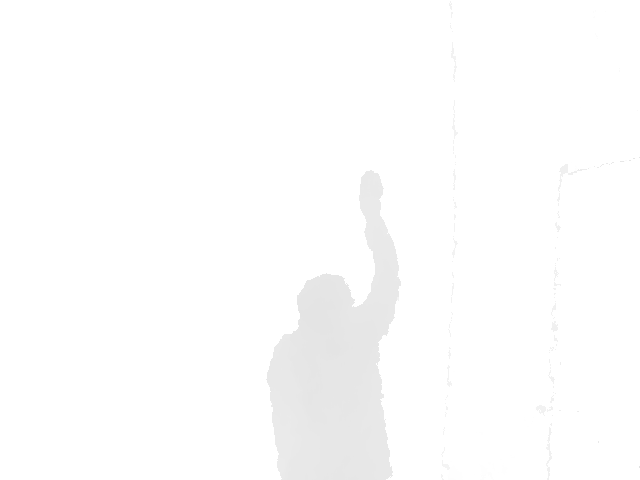hand: (358, 170, 386, 218)
head: (296, 272, 355, 339)
person: (265, 170, 402, 479)
